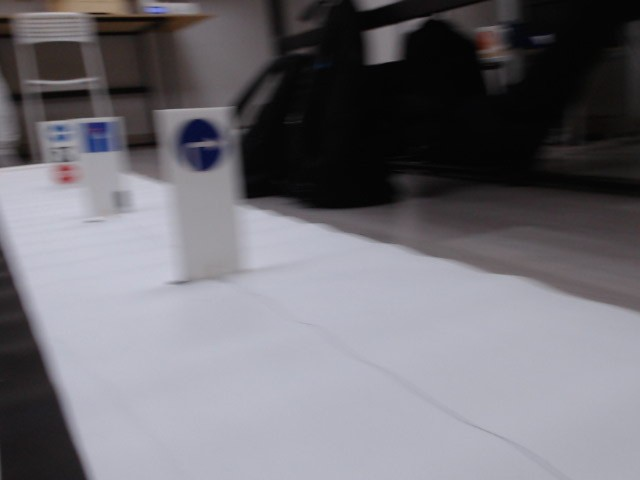Right: (173, 119, 223, 168)
